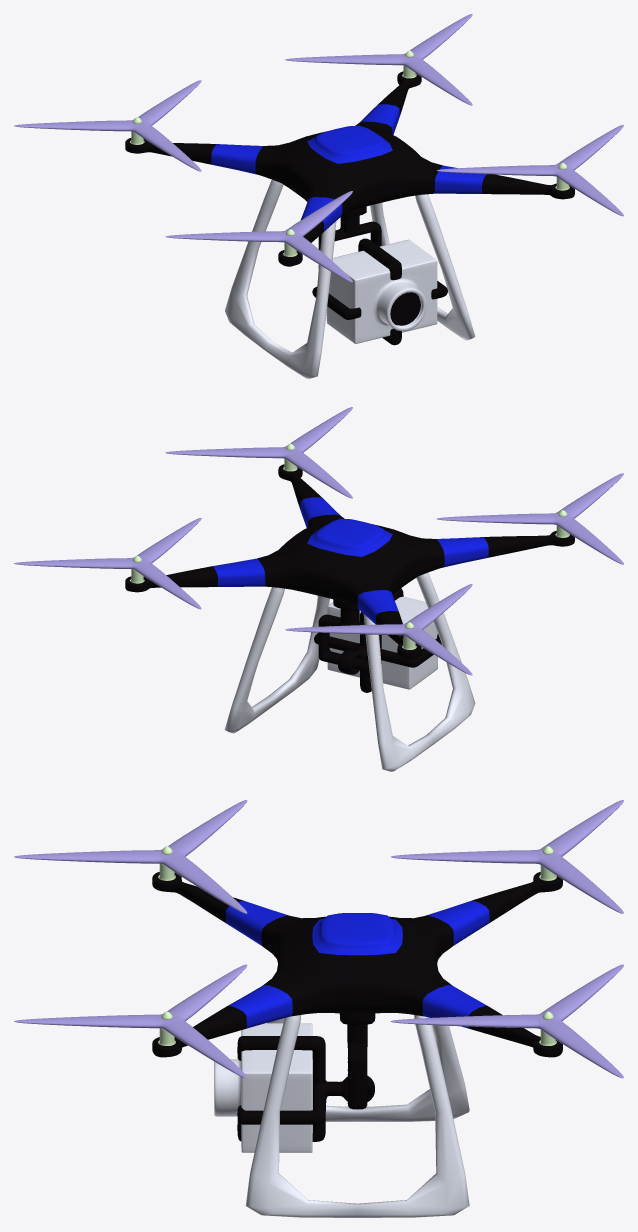
The model's file is Done_new_wings.fbx.
3 views of the same model, one above another, from view 1: azimuth 30°, elevation 25°; view 2: azimuth 150°, elevation 25°; view 3: azimuth 270°, elevation 25° (orthographic). The views are drawn at different scales.
Parts seen in each view (by area): view 1: Cube, Cube.001, Circle.002, Circle.001, Circle.003, Circle.005, Torus; view 2: Cube, Cube.001, Circle.005, Circle.003, Circle.001, Circle.002, Torus; view 3: Cube, Cube.001, Circle.005, Circle.003, Circle.001, Circle.002, Torus.
Part boxes in pixels (bbox=[...]): Cube: bbox=[125, 50, 574, 378]; Cube.001: bbox=[326, 239, 437, 343]; Circle.002: bbox=[14, 80, 201, 171]; Circle.001: bbox=[285, 14, 472, 105]; Circle.003: bbox=[436, 125, 623, 216]; Circle.005: bbox=[165, 191, 352, 282]; Torus: bbox=[312, 238, 447, 345]; Cube: bbox=[125, 443, 574, 771]; Cube.001: bbox=[327, 596, 437, 689]; Circle.005: bbox=[437, 473, 623, 564]; Circle.003: bbox=[165, 407, 352, 498]; Circle.001: bbox=[14, 518, 201, 609]; Circle.002: bbox=[285, 584, 472, 675]; Torus: bbox=[314, 588, 441, 692]; Cube: bbox=[152, 846, 562, 1217]; Cube.001: bbox=[214, 1023, 312, 1152]; Circle.005: bbox=[14, 800, 247, 913]; Circle.003: bbox=[14, 964, 247, 1078]; Circle.001: bbox=[391, 964, 623, 1078]; Circle.002: bbox=[391, 800, 623, 913]; Torus: bbox=[237, 1036, 374, 1141].
Bounding box in the file's own units: 1091 × 444 × 1011.
